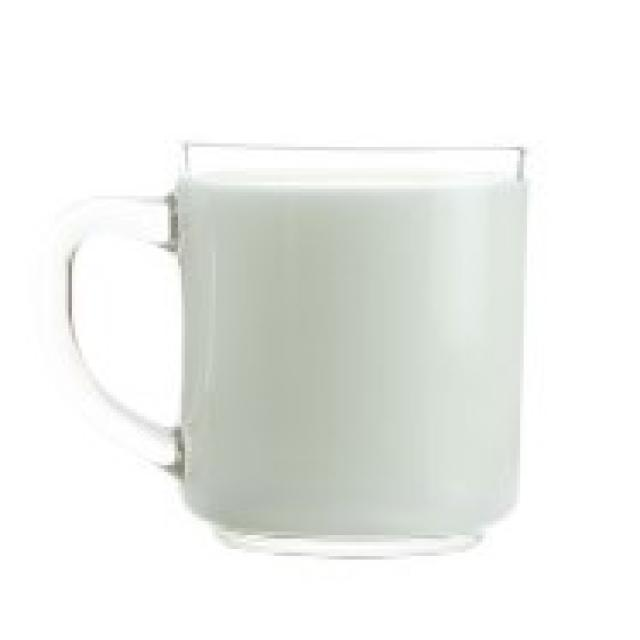electronic: (57, 133, 530, 544)
